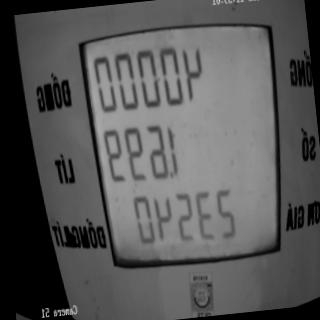screen: (72, 10, 300, 282)
